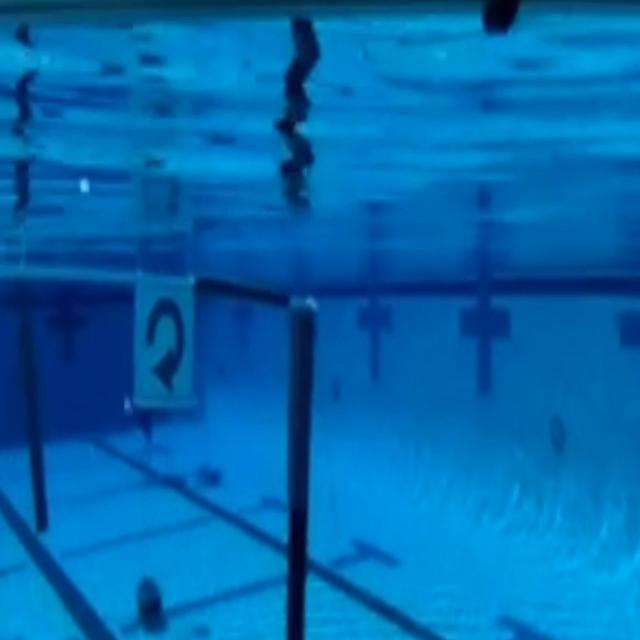Gate: (3, 256, 311, 632)
